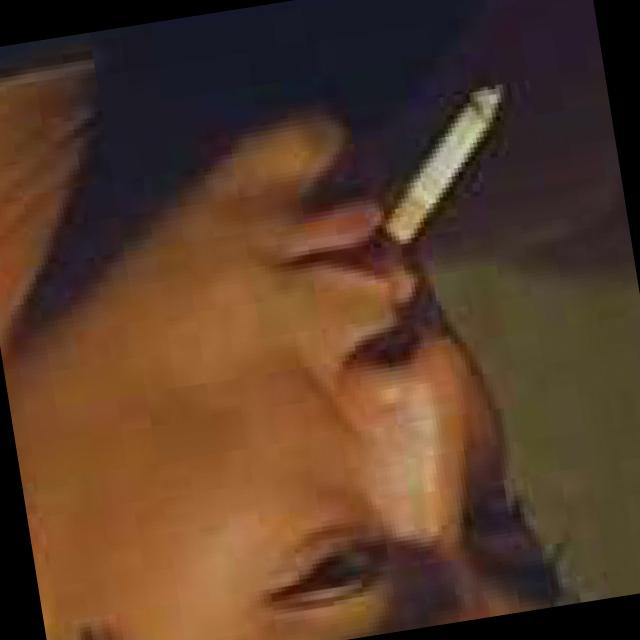smoke: (376, 66, 529, 244)
